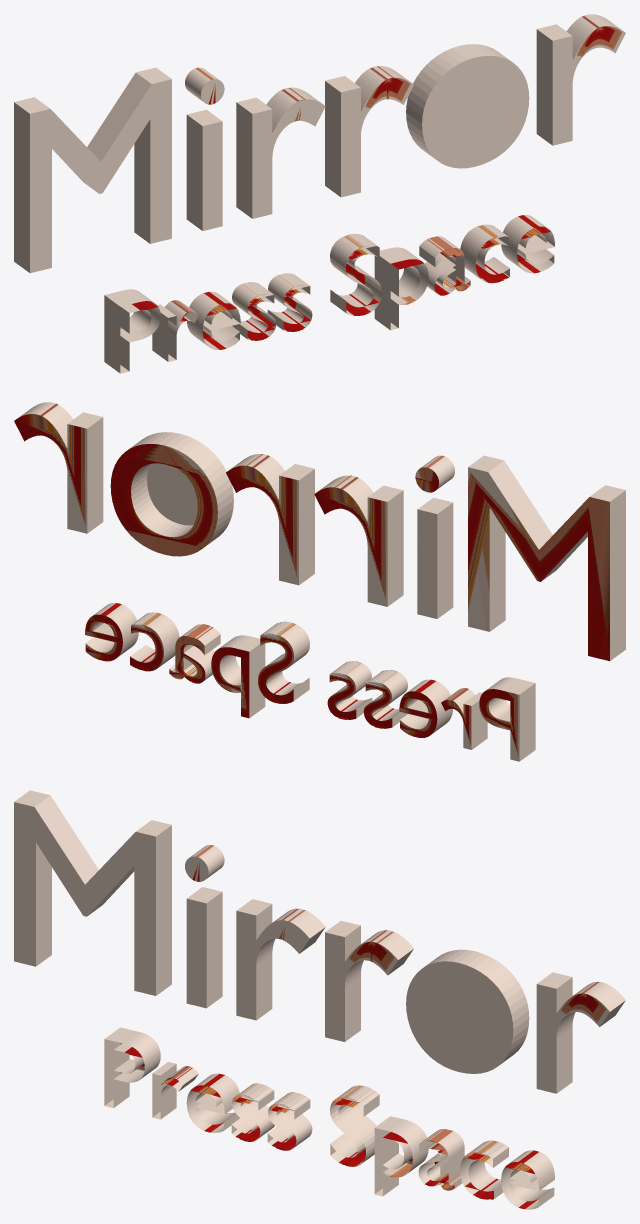
The model's file is Title.obj.
3 views of the same model, one above another, from view 1: azimuth 30°, elevation 25°; view 2: azimuth 150°, elevation 25°; view 3: azimuth 330°, elevation 25° (orthographic).
Parts seen in each view (by area): view 1: テキスト; view 2: テキスト; view 3: テキスト.
Boxes of the visible parts, bbox=[...] form: テキスト: bbox=[14, 14, 625, 373]; テキスト: bbox=[14, 402, 625, 761]; テキスト: bbox=[14, 790, 625, 1209].
Bounding box in the file's own units: 6.35 × 3.1 × 0.2953.
1 material, 1 textured.
